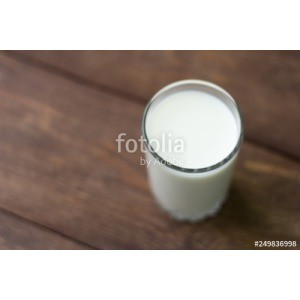milk_brain food: (142, 78, 241, 222)
